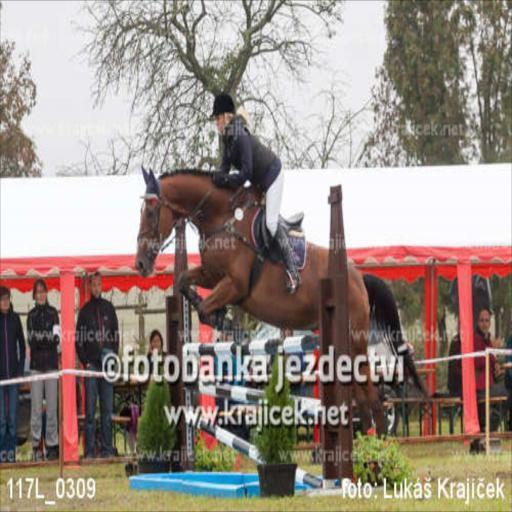horse: (134, 162, 433, 444)
